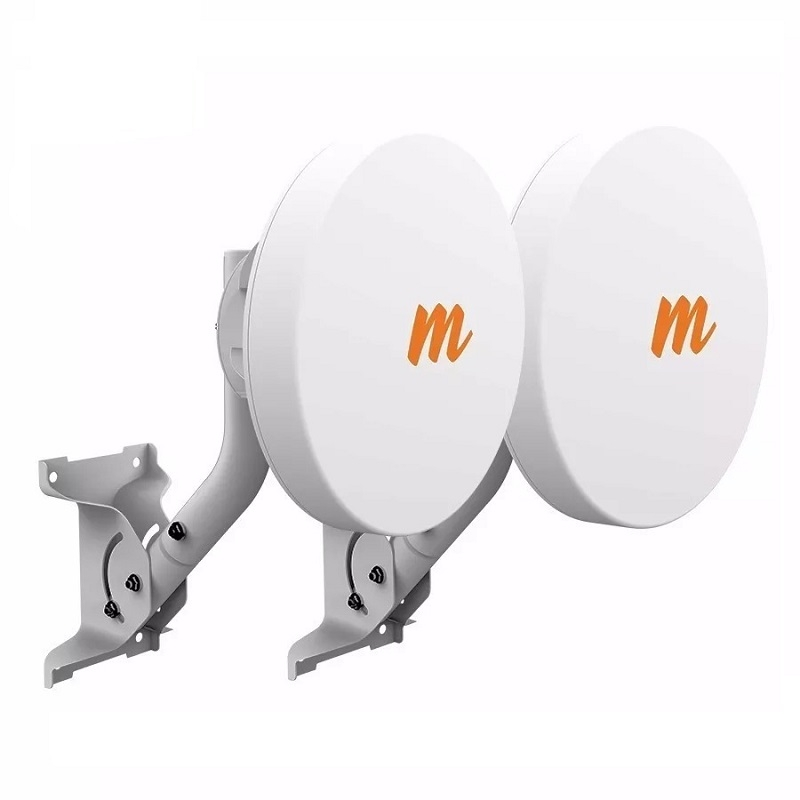ba: (218, 114, 524, 597), (493, 95, 780, 572)
